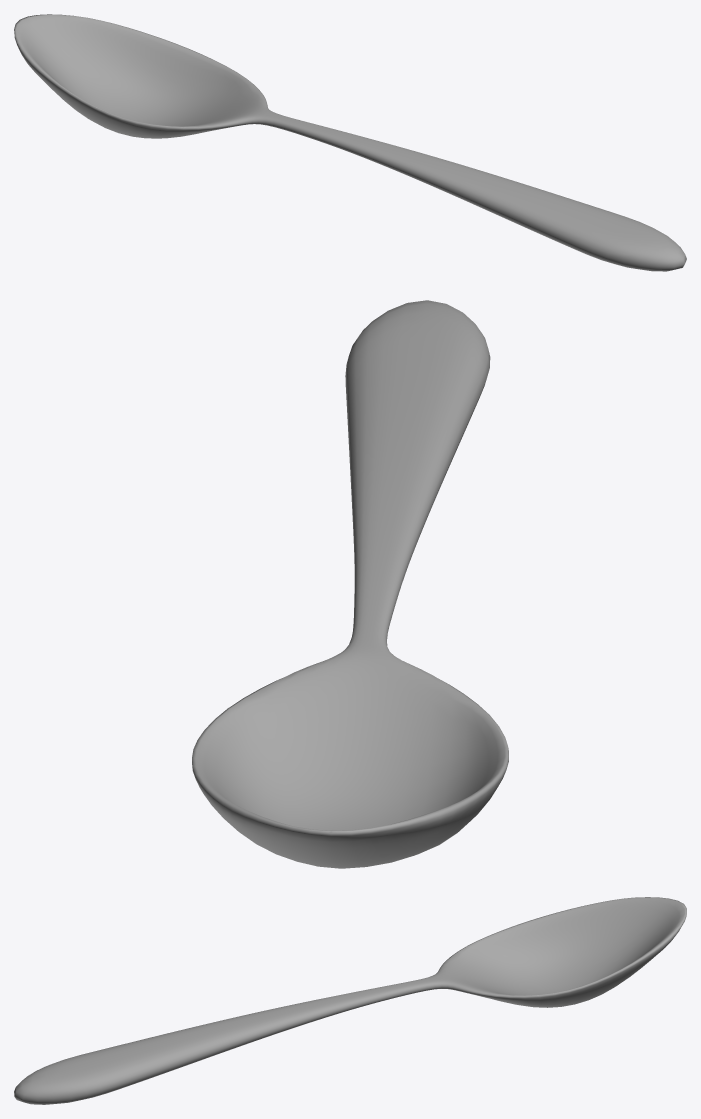
The model's file is cup_of_coffee_spoon_gltf.glb.
3 renders of one model, top to bottom at view 1: azimuth 30°, elevation 25°; view 2: azimuth 150°, elevation 25°; view 3: azimuth 270°, elevation 25°, orthographic. The views are drawn at different scales.
Parts seen in each view (by area): view 1: Teaspoon; view 2: Teaspoon; view 3: Teaspoon.
Boxes of the visible parts, bbox=[...] form: Teaspoon: bbox=[14, 14, 686, 271]; Teaspoon: bbox=[192, 300, 508, 868]; Teaspoon: bbox=[14, 897, 686, 1104].
Bounding box in the file's own units: 0.8795 × 0.1684 × 1.6.
Materials: 1 (1 with a texture image).
